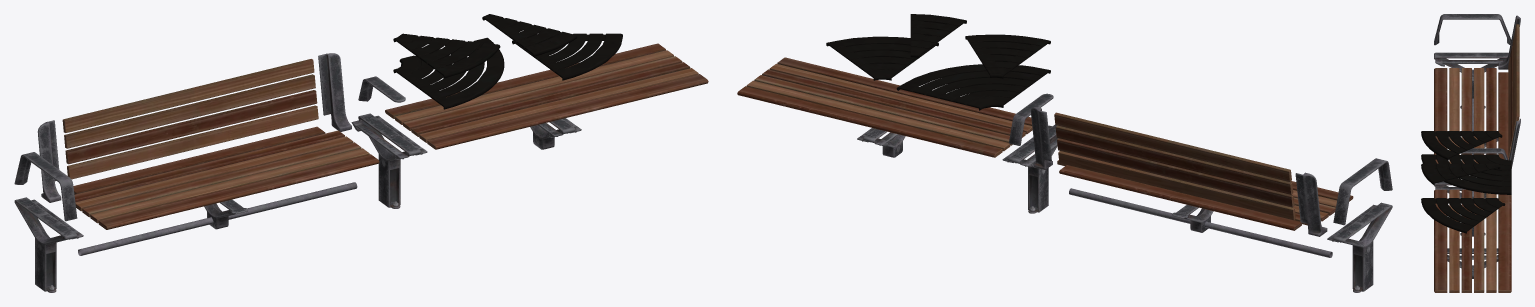
3 renders of one model, left to right at view 1: azimuth 30°, elevation 25°; view 2: azimuth 150°, elevation 25°; view 3: azimuth 270°, elevation 25°, orthographic. The views are drawn at different scales.
Parts seen in each view (by area): view 1: seat_back, seat, seat_bench, connector_90, legs_double, connector_45, legs_single, connector_60, crossbar, connector_30, back_support_l, arm_rest_01 (+4 smaller); view 2: seat_bench, seat_back, connector_90, seat, connector_60, legs_single, connector_45, crossbar, legs_double, connector_30, arm_rest_01, back_support_r (+4 smaller); view 3: seat_bench, seat, connector_90, connector_60, connector_45, seat_back, connector_30, legs_single, arm_rest_01, arm_rest_02, back_support_r, legs_double (+3 smaller).
Boxes of the visible parts, bbox=[...] form: seat_back: bbox=[62, 59, 318, 179]; seat: bbox=[73, 126, 379, 229]; seat_bench: bbox=[385, 43, 708, 149]; connector_90: bbox=[393, 37, 504, 109]; legs_double: bbox=[351, 113, 427, 208]; connector_45: bbox=[393, 33, 500, 78]; legs_single: bbox=[14, 197, 83, 292]; connector_60: bbox=[512, 33, 622, 80]; crossbar: bbox=[78, 182, 357, 255]; connector_30: bbox=[482, 14, 577, 56]; back_support_l: bbox=[318, 53, 351, 131]; arm_rest_01: bbox=[14, 152, 77, 221]; seat_bench: bbox=[737, 57, 1032, 157]; seat_back: bbox=[1054, 112, 1295, 220]; connector_90: bbox=[896, 64, 1050, 110]; seat: bbox=[1057, 160, 1353, 230]; connector_60: bbox=[826, 36, 938, 80]; legs_single: bbox=[1327, 202, 1392, 292]; connector_45: bbox=[965, 34, 1050, 78]; crossbar: bbox=[1069, 188, 1332, 257]; legs_double: bbox=[1002, 124, 1058, 213]; connector_30: bbox=[910, 14, 966, 57]; arm_rest_01: bbox=[1333, 158, 1392, 225]; back_support_r: bbox=[1295, 172, 1327, 236]; seat_bench: bbox=[1434, 189, 1511, 292]; seat: bbox=[1434, 68, 1508, 163]; connector_90: bbox=[1421, 154, 1511, 194]; connector_60: bbox=[1421, 198, 1505, 233]; connector_45: bbox=[1421, 131, 1502, 160]; seat_back: bbox=[1508, 24, 1519, 157]; connector_30: bbox=[1421, 163, 1500, 185]; legs_single: bbox=[1434, 52, 1508, 108]; arm_rest_01: bbox=[1434, 14, 1511, 45]; arm_rest_02: bbox=[1461, 148, 1508, 160]; back_support_r: bbox=[1498, 15, 1520, 69]; legs_double: bbox=[1434, 181, 1486, 236].
Bounding box in the file's own units: 4.34 × 0.95 × 0.7704.
Materials: 4 (4 with a texture image).
